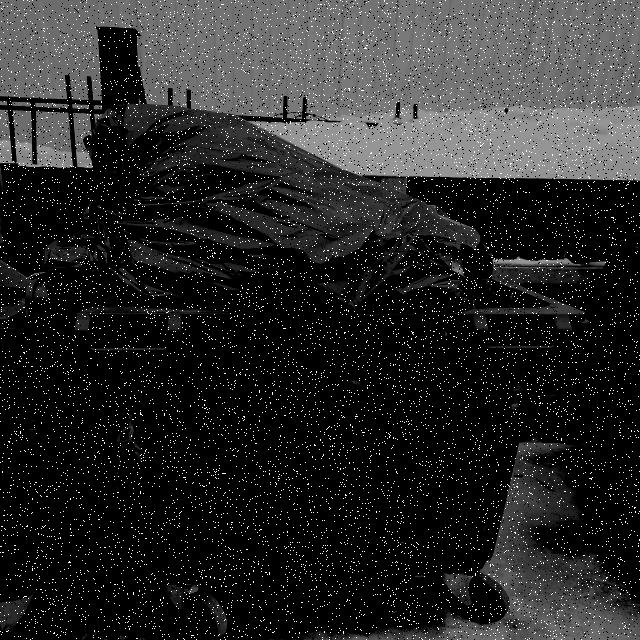Trashcan: (19, 95, 603, 634)
